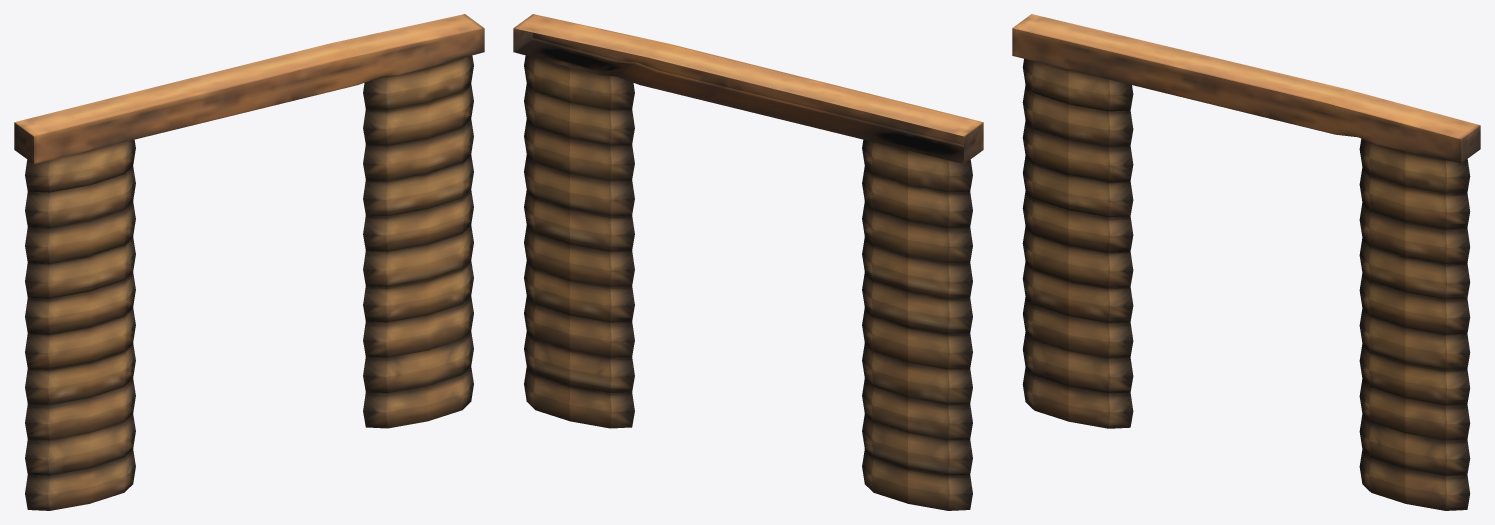
File: DR_SandbagDoorway4.fbx
The picture shows the model from 3 angles, left to right: view 1: azimuth 30°, elevation 25°; view 2: azimuth 150°, elevation 25°; view 3: azimuth 330°, elevation 25°; orthographic projection.
Visible parts, largest first — view 1: DR_SandbagDoorway4; view 2: DR_SandbagDoorway4; view 3: DR_SandbagDoorway4.
Boxes of the visible parts, bbox=[...] form: DR_SandbagDoorway4: bbox=[14, 14, 484, 510]; DR_SandbagDoorway4: bbox=[513, 14, 983, 510]; DR_SandbagDoorway4: bbox=[1012, 14, 1480, 510].
Size of the model in its own units: 4 by 0.3 by 3.25.
1 material, 1 textured.
